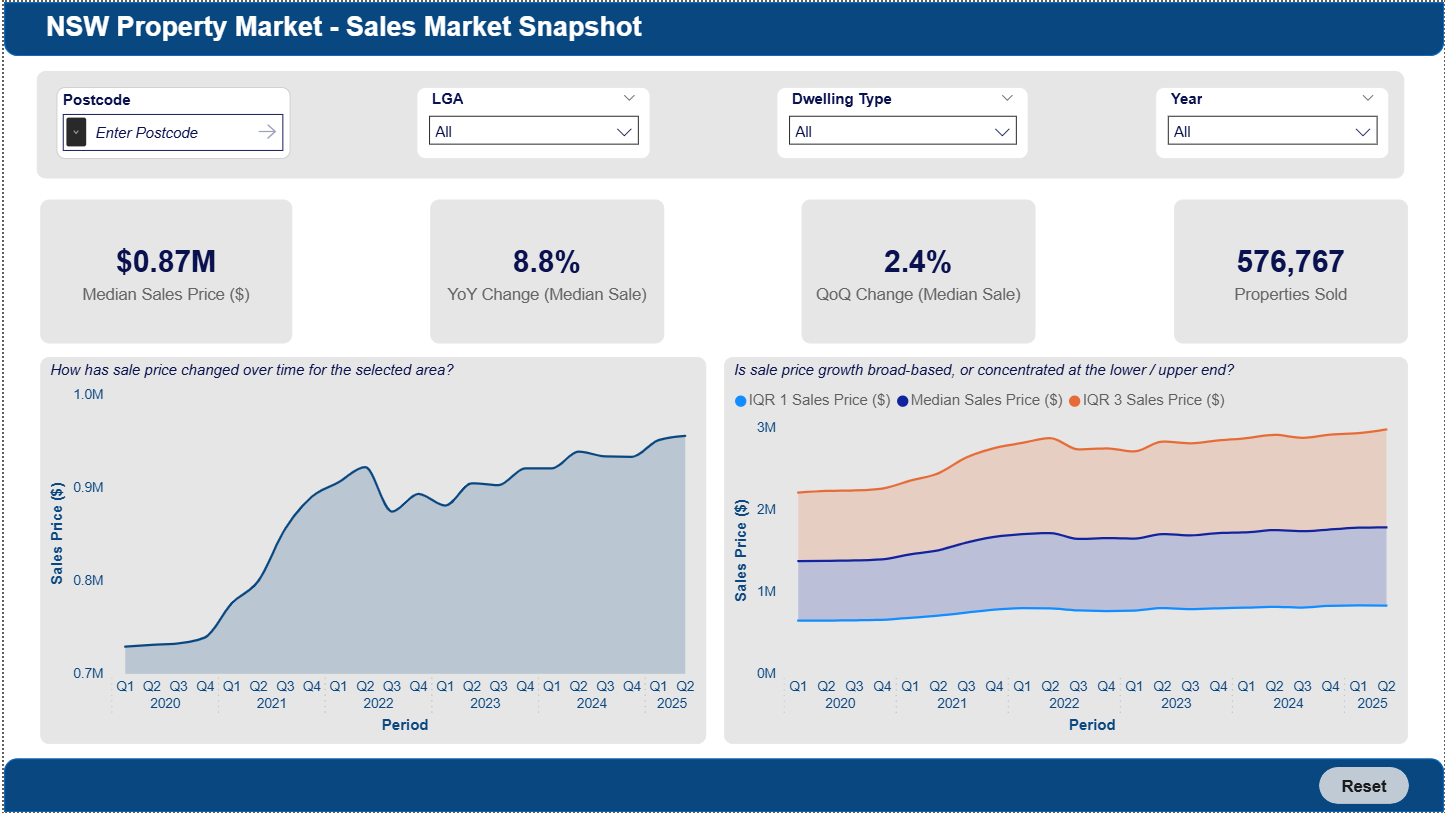

What the dashboard file says about the page in this screenshot:
{"tool":"powerbi","page":{"name":"Sales Market Snapshot","canvas":[1280,720],"ordinal":1},"visuals":[{"type":"shape","box":[28.4,61.3,1216,96],"z":0},{"type":"shape","box":[0,672,1280,48],"z":0,"group":"g1"},{"type":"shape","box":[0,0,1280,48],"z":1000,"group":"g1"},{"type":"textSlicer","fields":{"Values":["Sales.Postcode"]},"box":[46.9,75.7,208,64],"z":1000},{"type":"slicer","fields":{"Values":["Sales.lga"]},"box":[366.9,75.7,208,64],"z":2000},{"type":"slicer","fields":{"Values":["Sales.Dwelling_Type"]},"box":[686.9,75.7,224,64],"z":3000},{"type":"slicer","fields":{"Values":["Sales.Year"]},"box":[1022.9,75.7,208,64],"z":4000},{"type":"card","fields":{"Values":["Median(Sales.Median_Sales_Price)"]},"box":[32,176,224,128],"z":5000},{"type":"card","fields":{"Values":["Avg(Sales.Annual_Change_In_median)"]},"box":[378.7,176,208,128],"z":6000},{"type":"card","fields":{"Values":["Avg(Sales.Qtrly_Median_Change)"]},"box":[709.3,176,208,128],"z":7000},{"type":"lineChart","title":"How has sale price  changed over time for the selected area?","fields":{"Category":["Sales.Year","Sales.Quarter"],"Y":["Median(Sales.Median_Sales_Price)"]},"box":[32,315.3,592,344],"z":8000},{"type":"stackedAreaChart","title":"Is sale price growth broad‑based, or concentrated at the lower / upper end?","fields":{"Category":["Sales.Year","Sales.Quarter"],"Y":["Median(Sales.1st_Q_Sales_Price)","Median(Sales.Median_Sales_Price)","Median(Sales.3rd_Q_Sales_Price)"]},"box":[640,315.3,608,344],"z":9000},{"type":"card","fields":{"Values":["Sum(Sales.No_of_Sales)"]},"box":[1040,176,208,128],"z":10000},{"type":"group","id":"g1","title":"Group 1","box":[0,0,1280,720],"z":11000},{"type":"actionButton","box":[1168.6,680,80,32.9],"z":15000,"group":"g1"},{"type":"textbox","box":[32,0,560,48],"z":16000,"group":"g1"}]}

Visuals, with their boxes in screenshot pixels (x1, y1, x2, y2), scaled from the page's 1280x720 canvas onto the 1445x813 screenshot:
shape: <box>32,69,1405,178</box>
shape: <box>0,759,1444,812</box>
shape: <box>0,0,1444,54</box>
textSlicer - Sales.Postcode: <box>53,85,288,158</box>
slicer - Sales.lga: <box>414,85,649,158</box>
slicer - Sales.Dwelling_Type: <box>775,85,1028,158</box>
slicer - Sales.Year: <box>1155,85,1390,158</box>
card - Median(Sales.Median_Sales_Price): <box>36,199,289,343</box>
card - Avg(Sales.Annual_Change_In_median): <box>428,199,662,343</box>
card - Avg(Sales.Qtrly_Median_Change): <box>801,199,1036,343</box>
"How has sale price  changed over time for the selected area?" lineChart: <box>36,356,704,744</box>
"Is sale price growth broad‑based, or concentrated at the lower / upper end?" stackedAreaChart: <box>722,356,1409,744</box>
card - Sum(Sales.No_of_Sales): <box>1174,199,1409,343</box>
"Group 1" group: <box>0,0,1444,812</box>
actionButton: <box>1319,768,1410,805</box>
textbox: <box>36,0,668,54</box>
